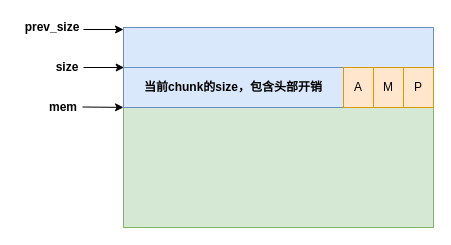
The diagram is 451 pixels wide and 245 high, and some of its shapes have lost their labels. The shapes that lost their labels are listed below. From the top down, each one's box as (x1, y1, x2, y2) in pixels, then its label:
(122, 26, 434, 68): 前一个chunk的size(如果其空闲)
(122, 106, 434, 228): 实际用户数据部分 malloc_usable_size()返回该部分大小
